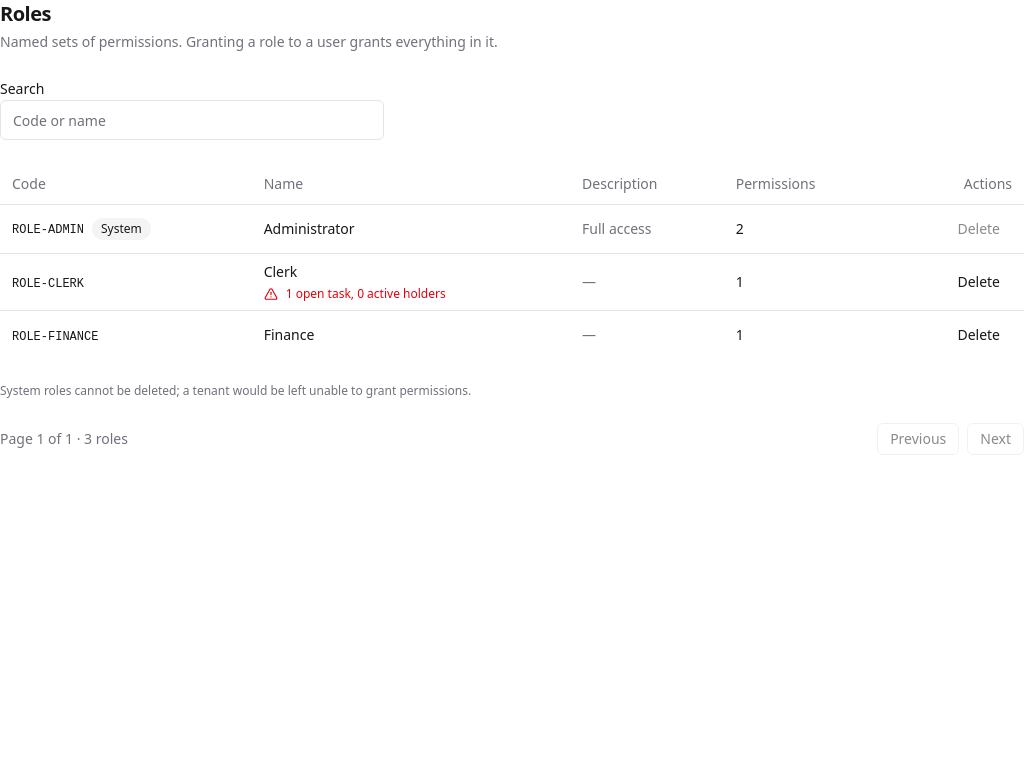
Test case: RoleListPage › a role nobody holds while open tasks need it (#508) › opens the open-task list from the notice, with no delete tried
Click the button with test id "role-stranded-tasks-open" at (366, 294), box [286,286,446,302]
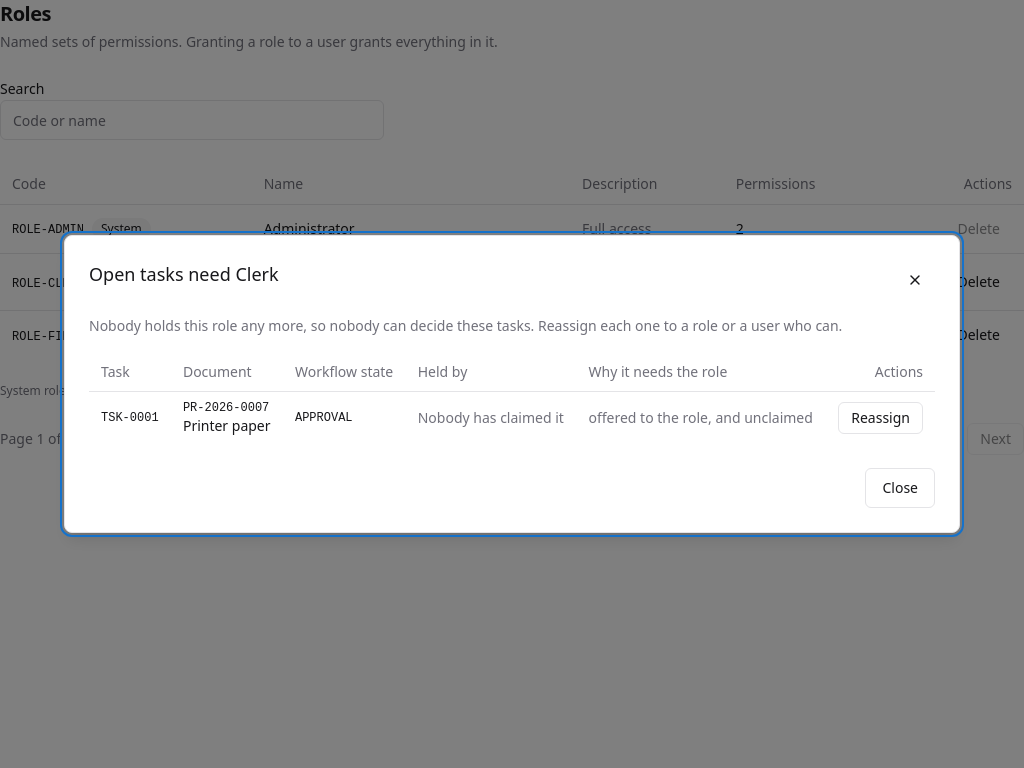
Check: the number of dialogs is 1, box [64,235,960,533]
Check: the dialog shows "Open tasks need Clerk", box [89,262,279,286]
Check: the text with test id "role-open-tasks-stranded" is shown, box [89,316,935,336]
